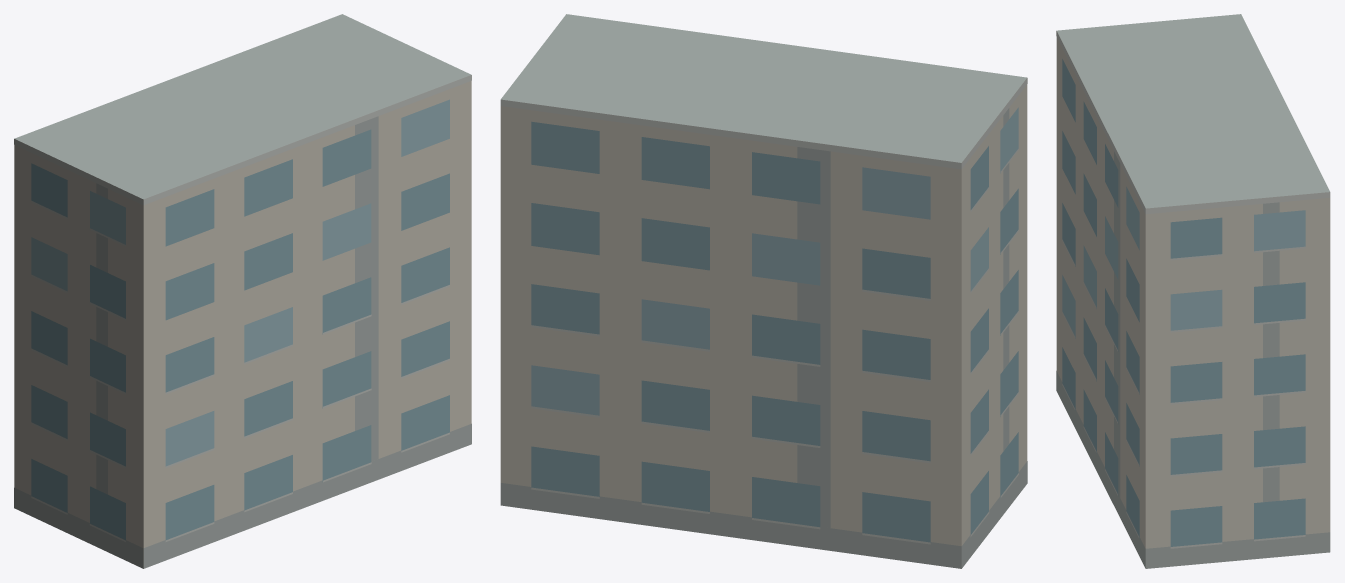
Rendered from residential-71b6b9c1-933f-4642-ac28-e19f15551bd4.glb.
3 renders of one model, left to right at view 1: azimuth 30°, elevation 25°; view 2: azimuth 150°, elevation 25°; view 3: azimuth 270°, elevation 25°, orthographic. The views are drawn at different scales.
Visible parts, largest first — view 1: residential-71b6b9c1-933f-4642-ac28-e19f15551bd4.tmp; view 2: residential-71b6b9c1-933f-4642-ac28-e19f15551bd4.tmp; view 3: residential-71b6b9c1-933f-4642-ac28-e19f15551bd4.tmp.
Boxes of the visible parts, bbox=[...] form: residential-71b6b9c1-933f-4642-ac28-e19f15551bd4.tmp: bbox=[14, 14, 471, 568]; residential-71b6b9c1-933f-4642-ac28-e19f15551bd4.tmp: bbox=[500, 14, 1027, 568]; residential-71b6b9c1-933f-4642-ac28-e19f15551bd4.tmp: bbox=[1056, 14, 1330, 568].
Size of the model in its own units: 17.66 by 15.25 by 10.51.
